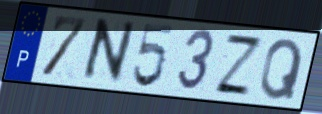3: (174, 27, 217, 95)
5: (131, 21, 176, 90)
7: (41, 14, 88, 79)
N: (78, 16, 138, 86)
Q: (258, 37, 305, 102)
Z: (211, 31, 266, 98)
